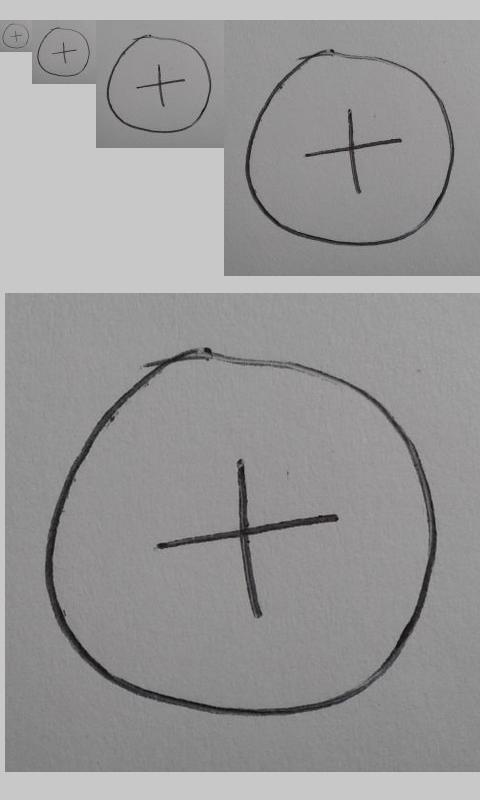button: (44, 346, 437, 719), (244, 49, 456, 247), (106, 34, 212, 134), (37, 27, 90, 77), (2, 23, 30, 48)
